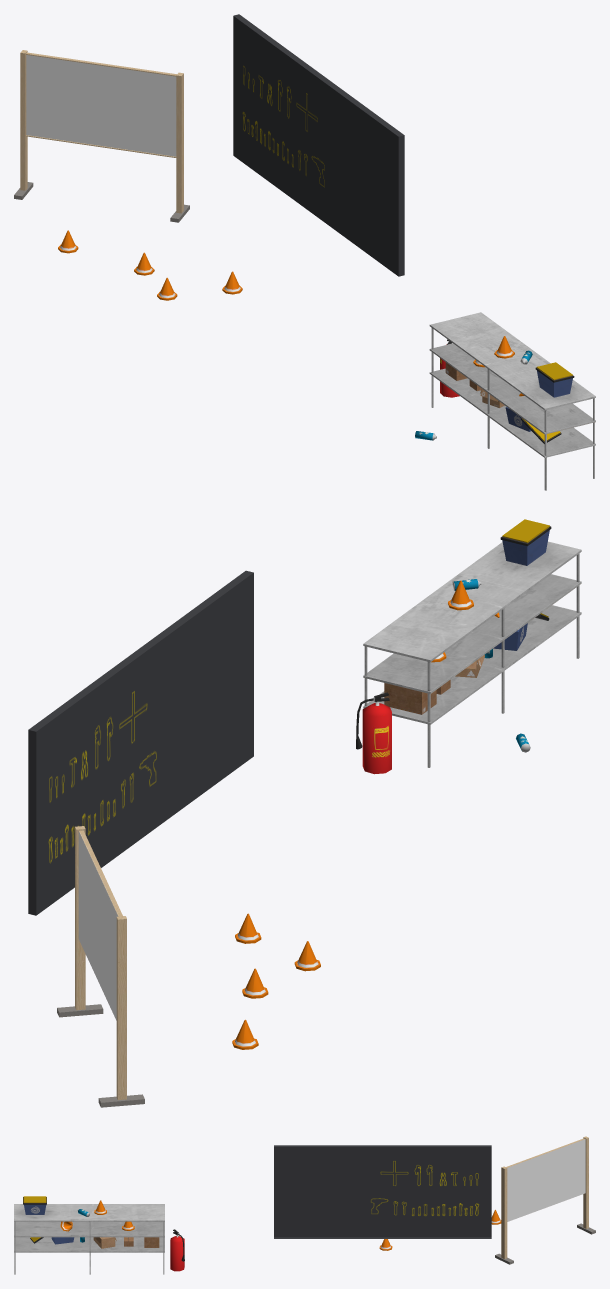
File: Props3.fbx
3 views of the same model, one above another, from view 1: azimuth 30°, elevation 25°; view 2: azimuth 150°, elevation 25°; view 3: azimuth 270°, elevation 25° (orthographic). The views are drawn at different scales.
Visible parts, largest first — view 1: TableroLLantas, Tablero, mesa1, caja_herramientas; view 2: TableroLLantas, mesa1, Tablero, Extintor, caja_herramientas, caja_cerrada_1; view 3: TableroLLantas, mesa1, Tablero, Extintor, caja_herramientas, caja_abierta_1.
Part boxes in pixels (x1=…): TableroLLantas: x1=233, y1=14, x2=404, y2=276; Tablero: x1=14, y1=50, x2=189, y2=222; mesa1: x1=429, y1=312, x2=595, y2=490; caja_herramientas: x1=535, y1=362, x2=574, y2=397; TableroLLantas: x1=28, y1=570, x2=253, y2=915; mesa1: x1=363, y1=541, x2=581, y2=767; Tablero: x1=57, y1=826, x2=144, y2=1107; Extintor: x1=356, y1=692, x2=391, y2=774; caja_herramientas: x1=500, y1=519, x2=551, y2=565; caja_cerrada_1: x1=384, y1=683, x2=436, y2=714; TableroLLantas: x1=274, y1=1145, x2=491, y2=1238; mesa1: x1=14, y1=1204, x2=164, y2=1274; Tablero: x1=495, y1=1136, x2=595, y2=1264; Extintor: x1=170, y1=1229, x2=184, y2=1271; caja_herramientas: x1=23, y1=1196, x2=46, y2=1214; caja_abierta_1: x1=93, y1=1237, x2=116, y2=1248.
Size of the model in its own units: 264 by 282 by 1147.
